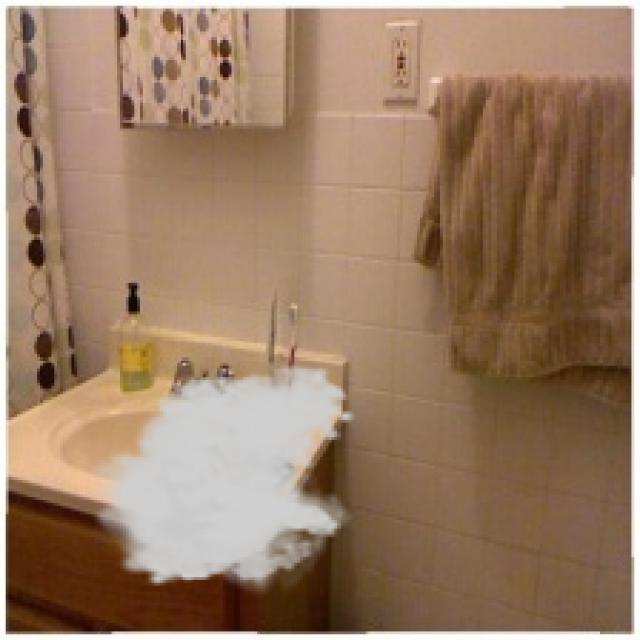smoke: (83, 363, 357, 600)
